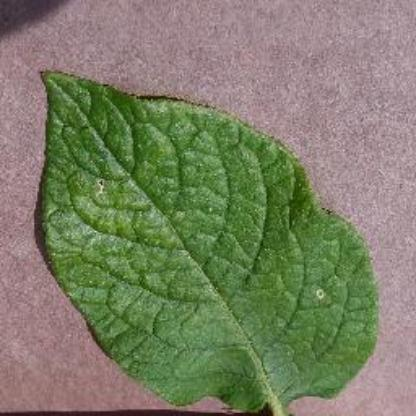Healthy-plant: (29, 45, 383, 415)
